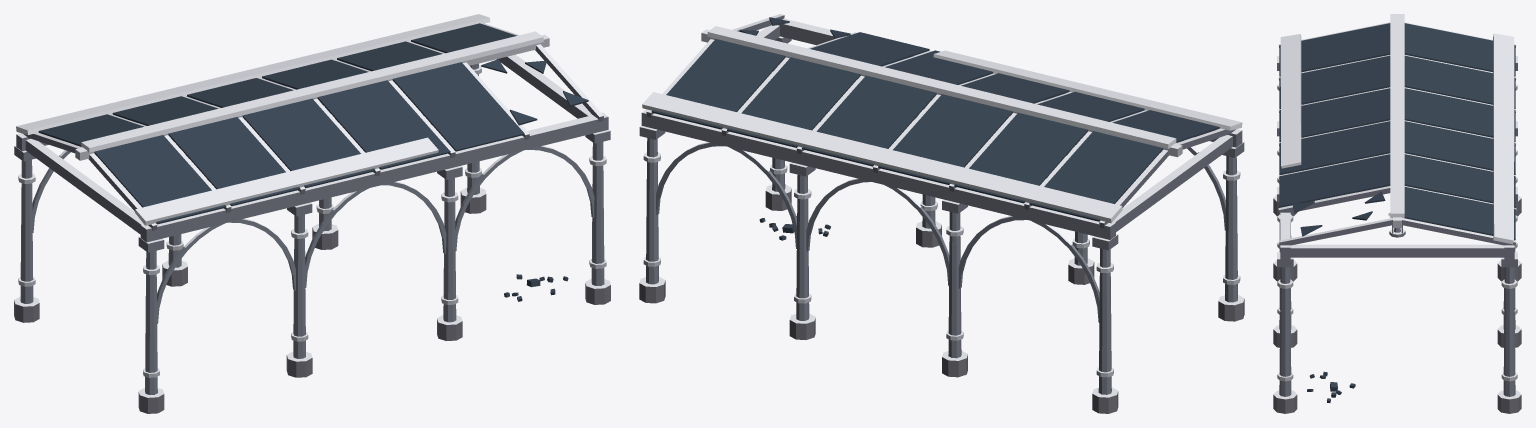
File: PR_Pergola_Oficina.fbx
The picture shows the model from 3 angles, left to right: view 1: azimuth 30°, elevation 25°; view 2: azimuth 150°, elevation 25°; view 3: azimuth 270°, elevation 25°; orthographic projection. The views are drawn at different scales.
Visible parts, largest first — view 1: PR_Pergola_Oficina; view 2: PR_Pergola_Oficina; view 3: PR_Pergola_Oficina.
Part boxes in pixels (x1,y1,x2,y2): PR_Pergola_Oficina: (14, 14, 610, 413); PR_Pergola_Oficina: (639, 14, 1244, 413); PR_Pergola_Oficina: (1273, 14, 1521, 413).
Bounding box in the file's own units: 12.2 × 5.43 × 6.2.
